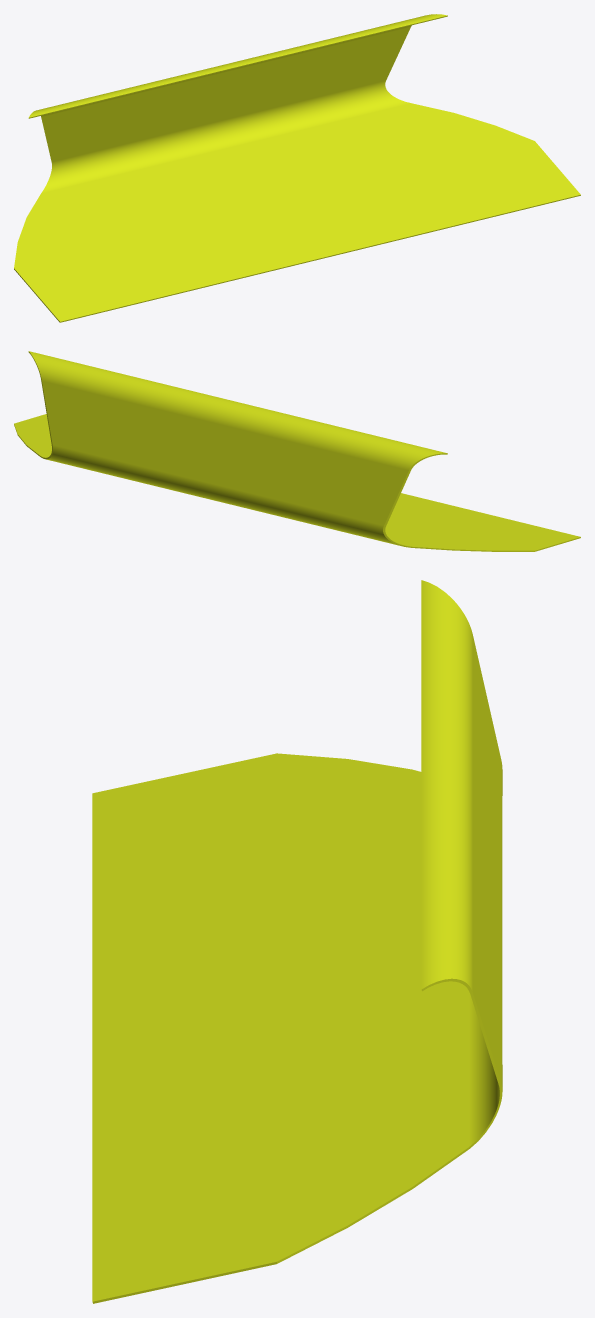
The picture shows the model from 3 angles, top to bottom: view 1: azimuth 30°, elevation 25°; view 2: azimuth 150°, elevation 25°; view 3: azimuth 270°, elevation 25°; orthographic projection. The views are drawn at different scales.
Parts seen in each view (by area): view 1: id5, id2; view 2: id5, id2; view 3: id2, id5.
Boxes of the visible parts, x1,y1,x2,y2 form: id5: (14,63,320,322); id2: (218,14,580,259); id5: (218,402,580,551); id2: (14,351,237,502); id2: (92,784,502,1303); id5: (92,580,502,1047).
Size of the model in its own units: 0.762 by 0.1859 by 0.2597.
